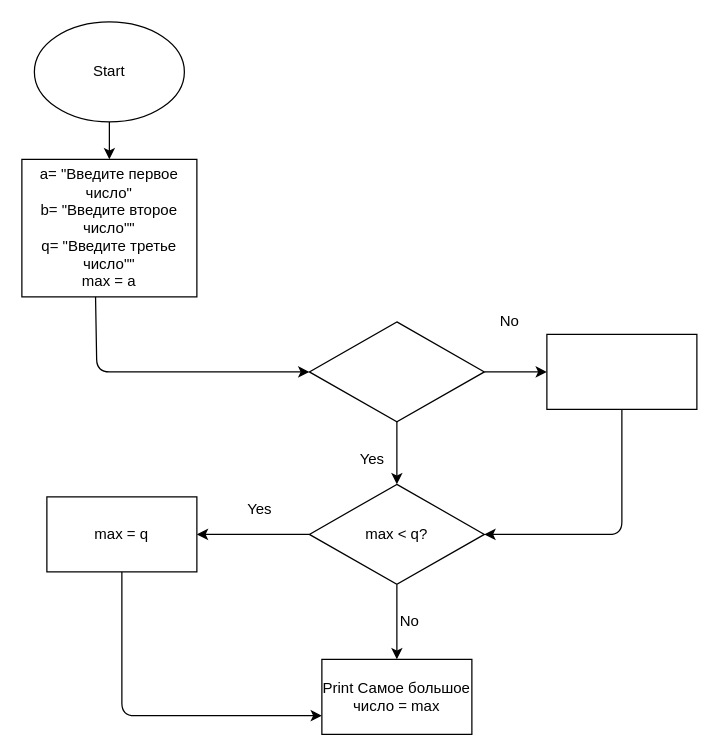
The diagram is 719 pixels wide and 756 high, and some of its shapes have lost their labels. The box of each missing label's shape, as (x1, y1, x2, y2) in pixels:
max = b: (546, 333, 697, 409)
max > b?: (308, 321, 484, 422)
